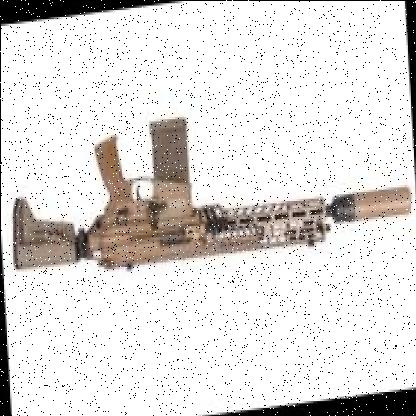rifle: (5, 86, 412, 294)
